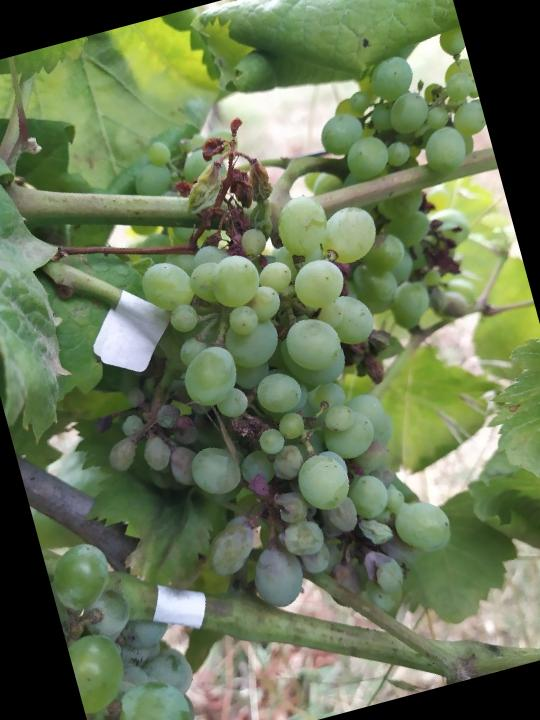grape: (29, 86, 478, 666), (281, 24, 532, 346)
